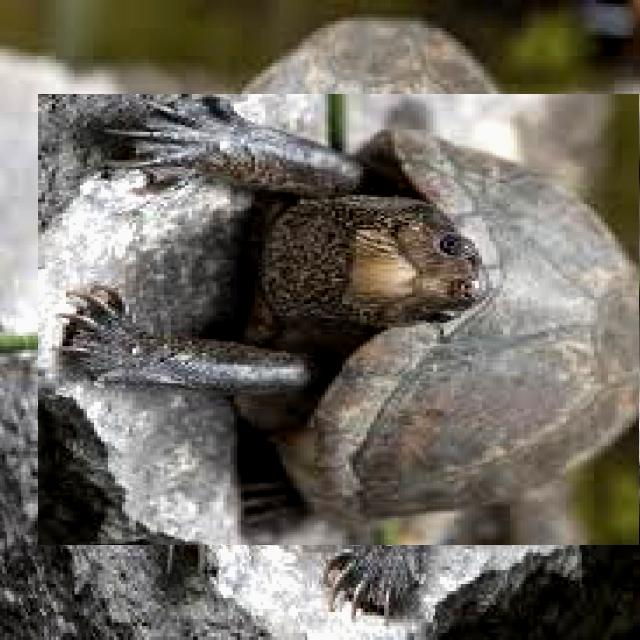Sea turtle: (85, 47, 630, 593)
